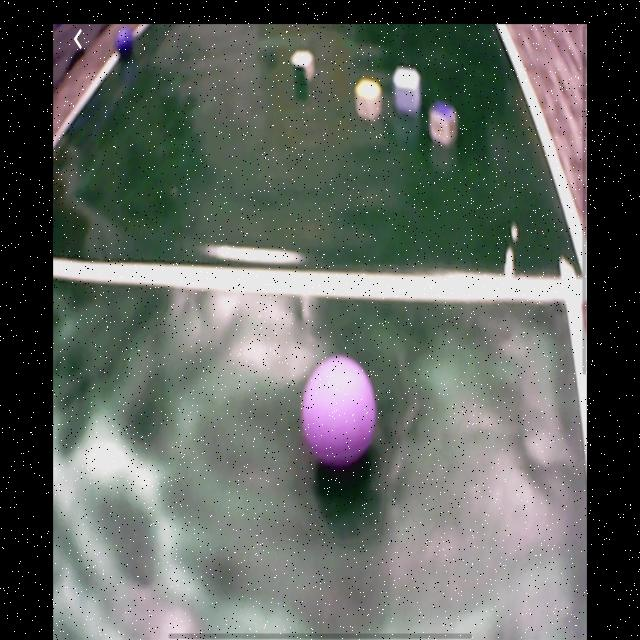ball: (303, 355, 378, 471), (117, 28, 135, 58)
